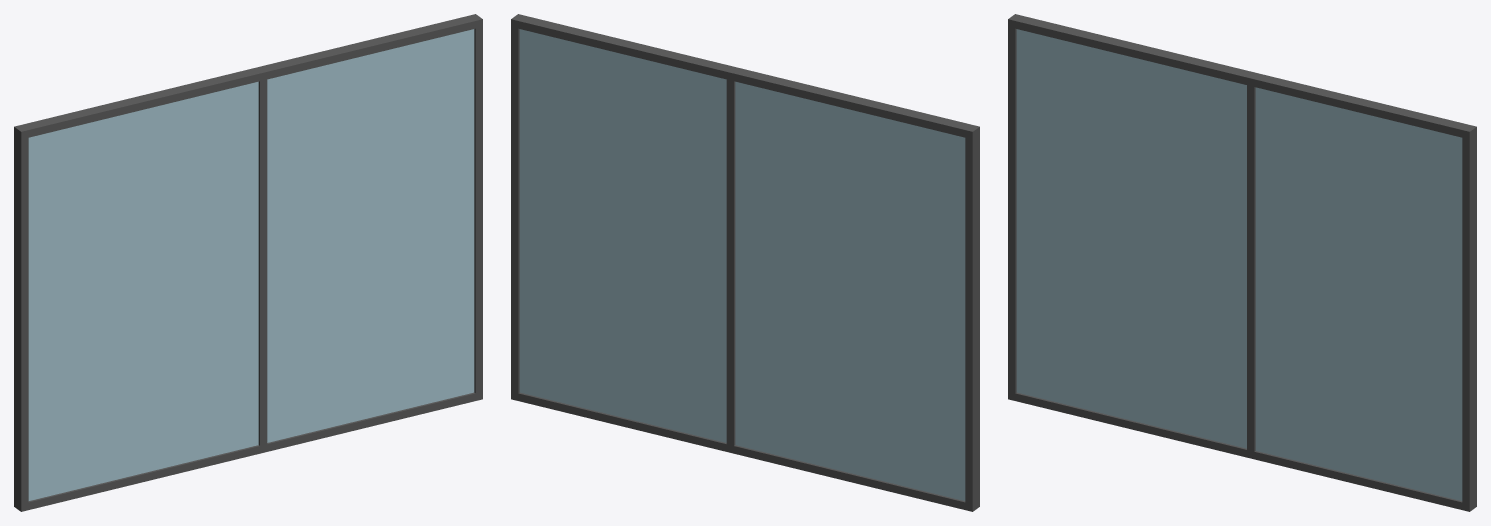
The model's file is Window_21.fbx.
3 renders of one model, left to right at view 1: azimuth 30°, elevation 25°; view 2: azimuth 150°, elevation 25°; view 3: azimuth 330°, elevation 25°, orthographic.
Parts seen in each view (by area): view 1: Window_21; view 2: Window_21; view 3: Window_21.
Part boxes in pixels (bbox=[...]): Window_21: bbox=[14, 14, 482, 511]; Window_21: bbox=[511, 14, 979, 511]; Window_21: bbox=[1008, 14, 1476, 511].
Size of the model in its own units: 443 by 11.85 by 348.
